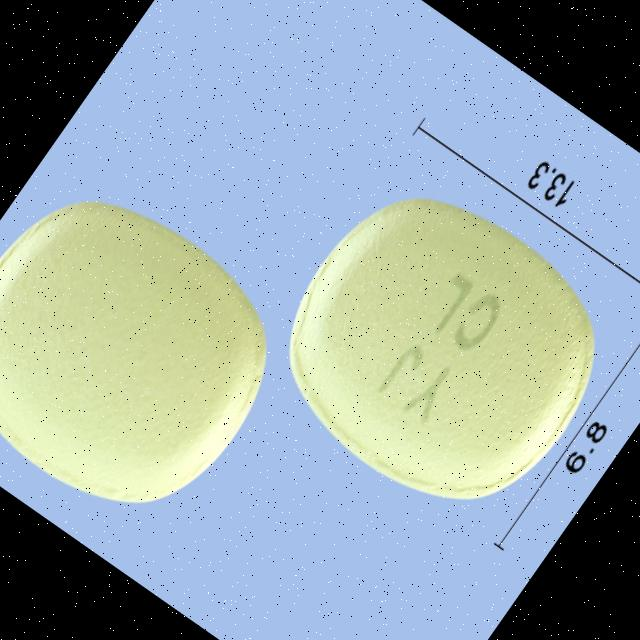Clacid -500mg: (233, 145, 640, 551), (0, 147, 318, 562)
